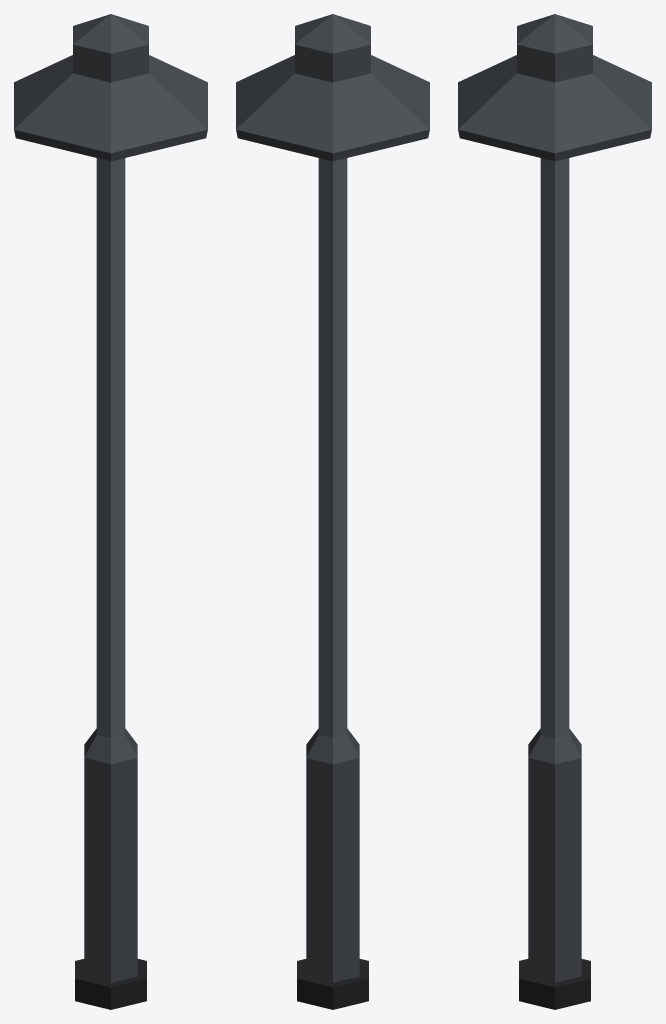
The model's file is SM_Prop_Streetlamp_02.fbx.
3 views of the same model, side by side, from view 1: azimuth 30°, elevation 25°; view 2: azimuth 150°, elevation 25°; view 3: azimuth 270°, elevation 25° (orthographic).
Visible parts, largest first — view 1: SM_Prop_Streetlamp_02; view 2: SM_Prop_Streetlamp_02; view 3: SM_Prop_Streetlamp_02.
Boxes of the visible parts, <box> form: SM_Prop_Streetlamp_02: <box>14,14,207,1009</box>; SM_Prop_Streetlamp_02: <box>236,14,429,1009</box>; SM_Prop_Streetlamp_02: <box>458,14,651,1009</box>.
Bounding box in the file's own units: 64.5 × 311 × 55.86.
